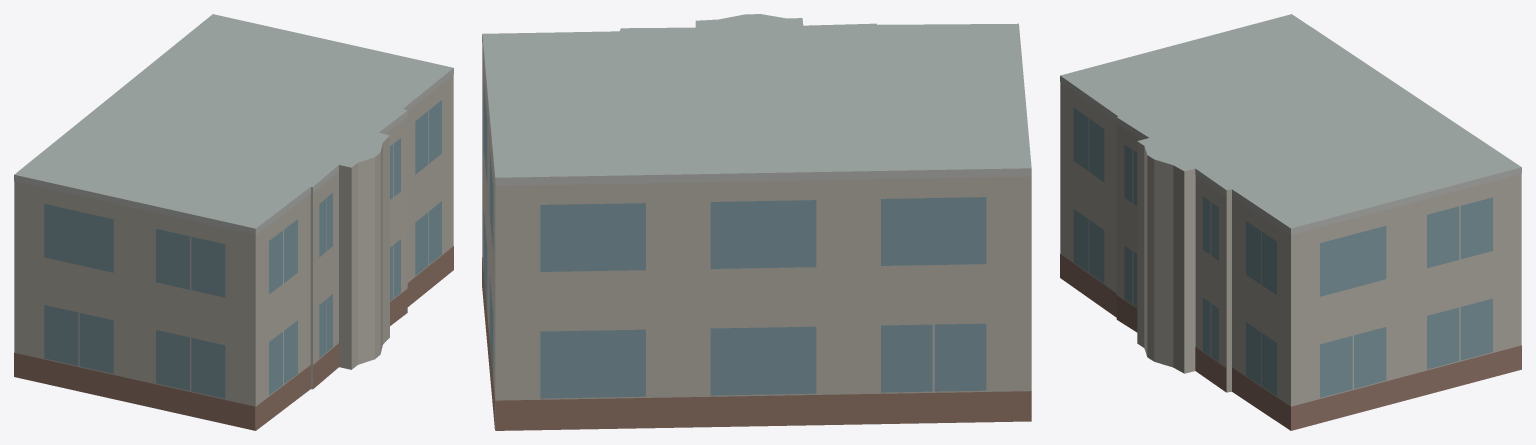
The model's file is survey-upis-32625090.glb.
3 renders of one model, left to right at view 1: azimuth 30°, elevation 25°; view 2: azimuth 150°, elevation 25°; view 3: azimuth 270°, elevation 25°, orthographic. The views are drawn at different scales.
Visible parts, largest first — view 1: survey-upis-32625090.tmp; view 2: survey-upis-32625090.tmp; view 3: survey-upis-32625090.tmp.
Part boxes in pixels (box(x1,y1,x2,y2)): survey-upis-32625090.tmp: box(14, 14, 453, 430); survey-upis-32625090.tmp: box(482, 14, 1031, 430); survey-upis-32625090.tmp: box(1060, 14, 1521, 430).
Size of the model in its own units: 17.29 by 7.6 by 15.72.
